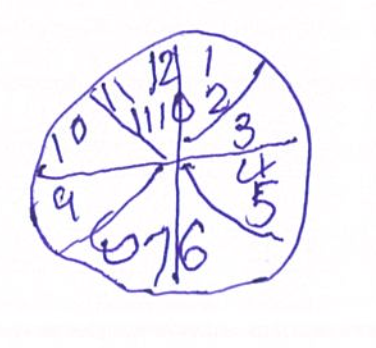1: (203, 44, 216, 78)
10: (49, 115, 90, 163)
11: (100, 76, 135, 113)
12: (142, 50, 181, 91)
2: (202, 83, 236, 114)
3: (232, 111, 256, 148)
4: (236, 152, 278, 185)
5: (245, 177, 278, 229)
6: (178, 216, 209, 272)
7: (142, 225, 170, 288)
9: (49, 184, 79, 224)
contour: (25, 28, 315, 298)
